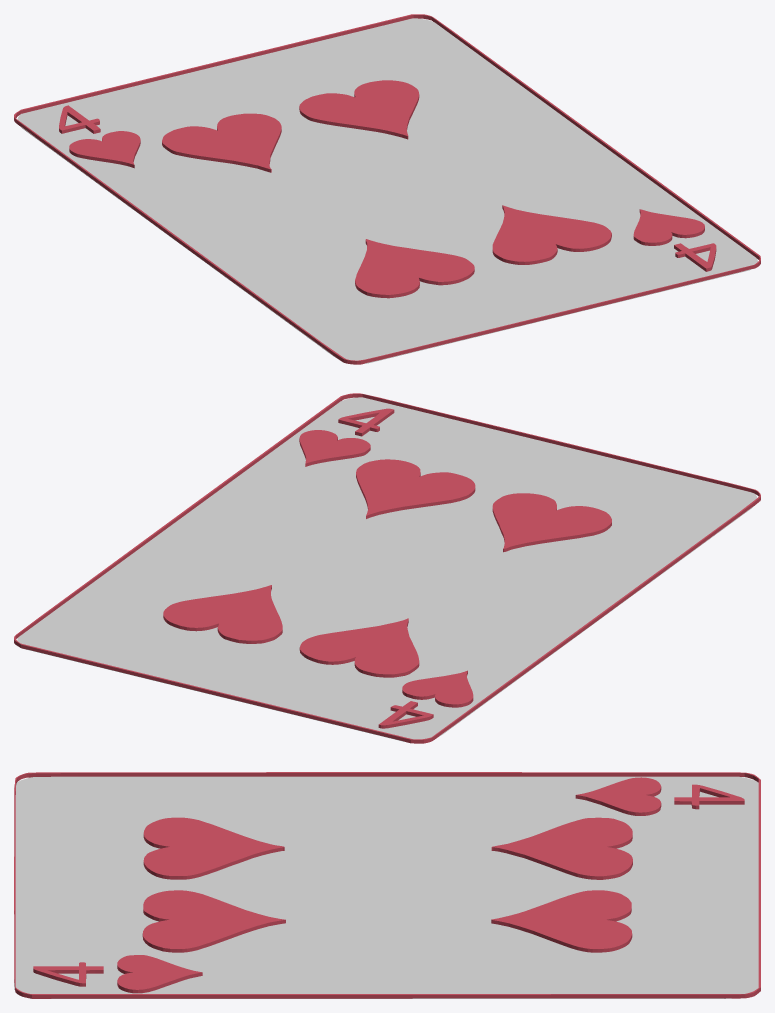
File: 4_hearts.glb
The picture shows the model from 3 angles, top to bottom: view 1: azimuth 30°, elevation 25°; view 2: azimuth 150°, elevation 25°; view 3: azimuth 270°, elevation 25°; orthographic projection. The views are drawn at different scales.
Visible parts, largest first — view 1: Mesh_Mesh_head_geo.001_lambert2SG.001; view 2: Mesh_Mesh_head_geo.001_lambert2SG.001; view 3: Mesh_Mesh_head_geo.001_lambert2SG.001.
Boxes of the visible parts, x1,y1,x2,y2 form: Mesh_Mesh_head_geo.001_lambert2SG.001: [14, 14, 760, 364]; Mesh_Mesh_head_geo.001_lambert2SG.001: [14, 393, 760, 743]; Mesh_Mesh_head_geo.001_lambert2SG.001: [14, 772, 760, 998].
Size of the model in its own units: 1.2 by 0.01 by 1.7.
